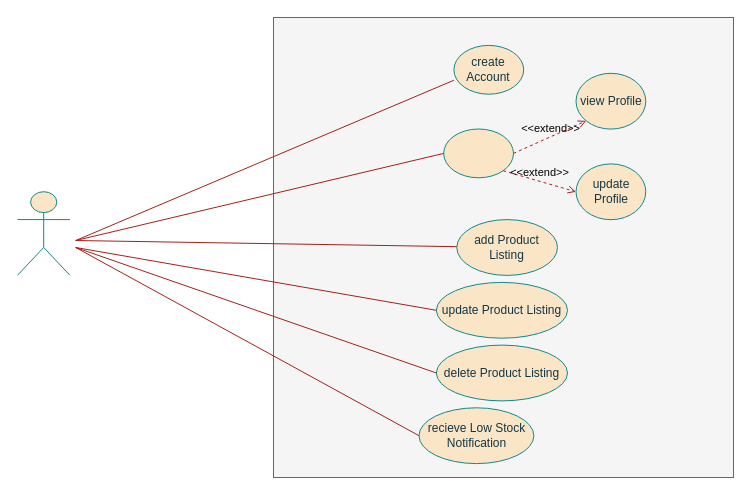
The diagram is 751 pixels wide and 495 high, and some of its shapes have lost their labels. Here are the shapes that lost their labels. From the top down, the box of each, then its label:
(443, 128, 514, 178): manage Profile
(16, 191, 70, 275): Supplier
